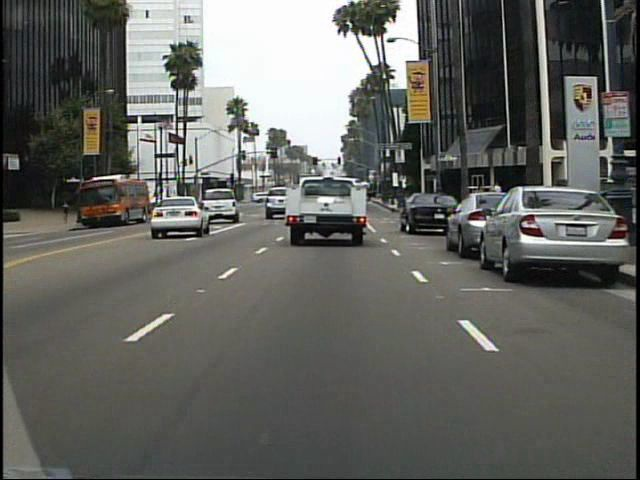person: (489, 179, 507, 221), (60, 192, 75, 226)
